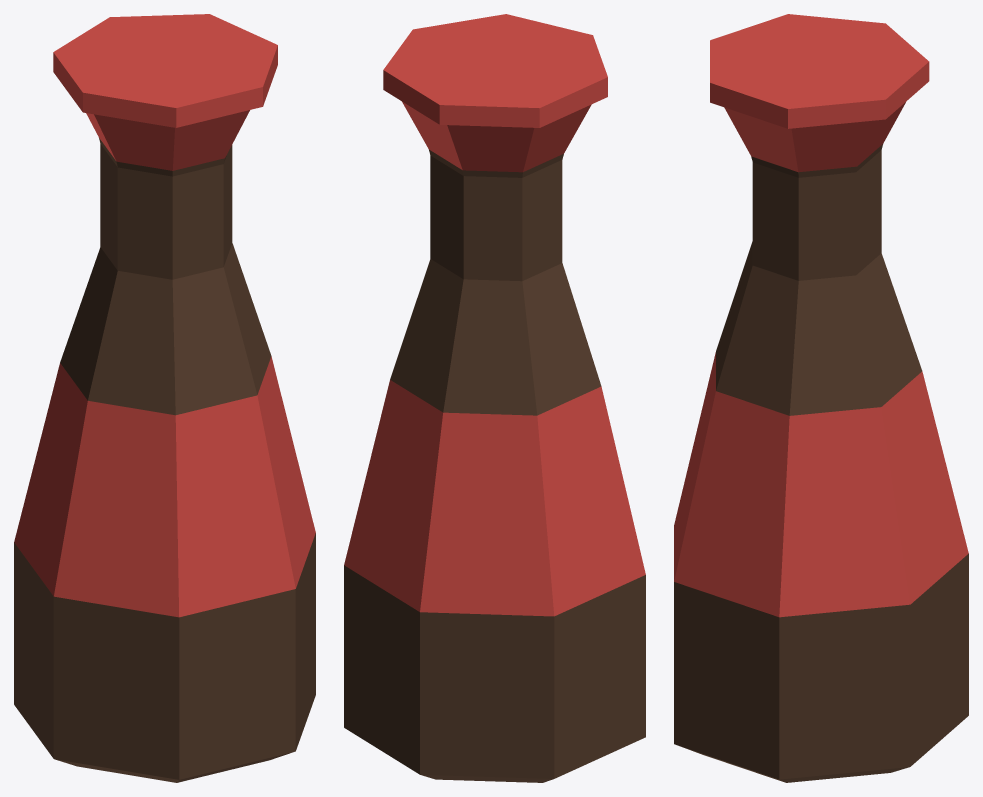
The model's file is Soy_sauce_2.fbx.
3 renders of one model, left to right at view 1: azimuth 30°, elevation 25°; view 2: azimuth 150°, elevation 25°; view 3: azimuth 270°, elevation 25°, orthographic.
Parts seen in each view (by area): view 1: Soy_sauce_2; view 2: Soy_sauce_2; view 3: Soy_sauce_2.
Part boxes in pixels (x1,y1,x2,y2): Soy_sauce_2: (14,14,315,782); Soy_sauce_2: (344,14,645,782); Soy_sauce_2: (674,14,968,782).
Size of the model in its own units: 8.96 by 21.93 by 8.73.
